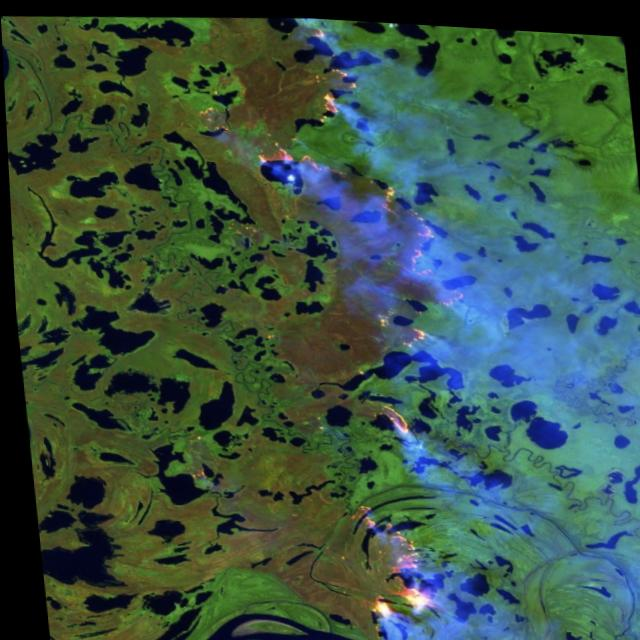fire: (229, 11, 496, 640)
